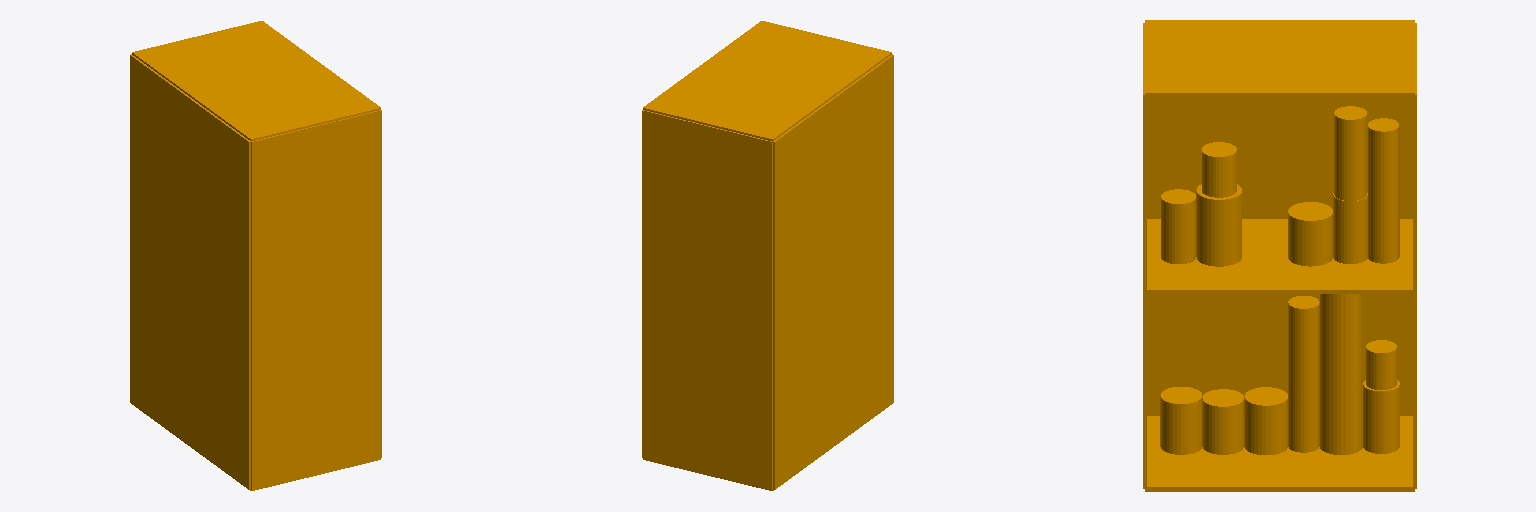
The robot description file, URDF, robot "syn_can_cabinet_packed_nonuniform_146":
<?xml version="1.0" ?>
<robot name="syn_can_cabinet_packed_nonuniform_146">
    <link concave="yes" name="base_link">
        <inertial>
            <origin rpy="0 0 0" xyz="0 0 0"/>
            <mass value="0.0"/>
            <inertia ixx="1e-08" ixy="0" ixz="0" iyy="1e-08" iyz="0" izz="1e-08"/>
        </inertial>
        <visual>
            <origin xyz="0 0 0" rpy="0 0 0" />
            <geometry>
                <mesh filename="syn_can_cabinet_packed_nonuniform_146.obj" scale="1.000000 1.000000 1.000000"/>
            </geometry>         
        </visual>

        <collision concave="yes">
            <origin xyz="0 0 0" rpy="0 0 0"/>
            <geometry>
                <mesh filename="syn_can_cabinet_packed_nonuniform_146.obj" scale="1.000000 1.000000 1.000000"/>
            </geometry>
        </collision>
    </link>
</robot>
    

--- Render facts (derived) ---
3 views of the same robot in one strip: view 1: azimuth 30°, elevation 25°; view 2: azimuth 150°, elevation 25°; view 3: azimuth 270°, elevation 25° (orthographic).
Model syn_can_cabinet_packed_nonuniform_146 with 1 links and 0 joints (none), rooted at base_link, posed all joints at 0.
Visible links, largest first — view 1: base_link; view 2: base_link; view 3: base_link.
Link boxes in pixels (<box>): base_link: <box>130,21,381,490</box>; base_link: <box>642,21,893,490</box>; base_link: <box>1143,20,1416,491</box>.
Size in the robot's own frame: 0.2239 by 0.3537 by 0.5692 metres.
1 mesh visuals loaded from 1 distinct referenced files (1 OBJ).
